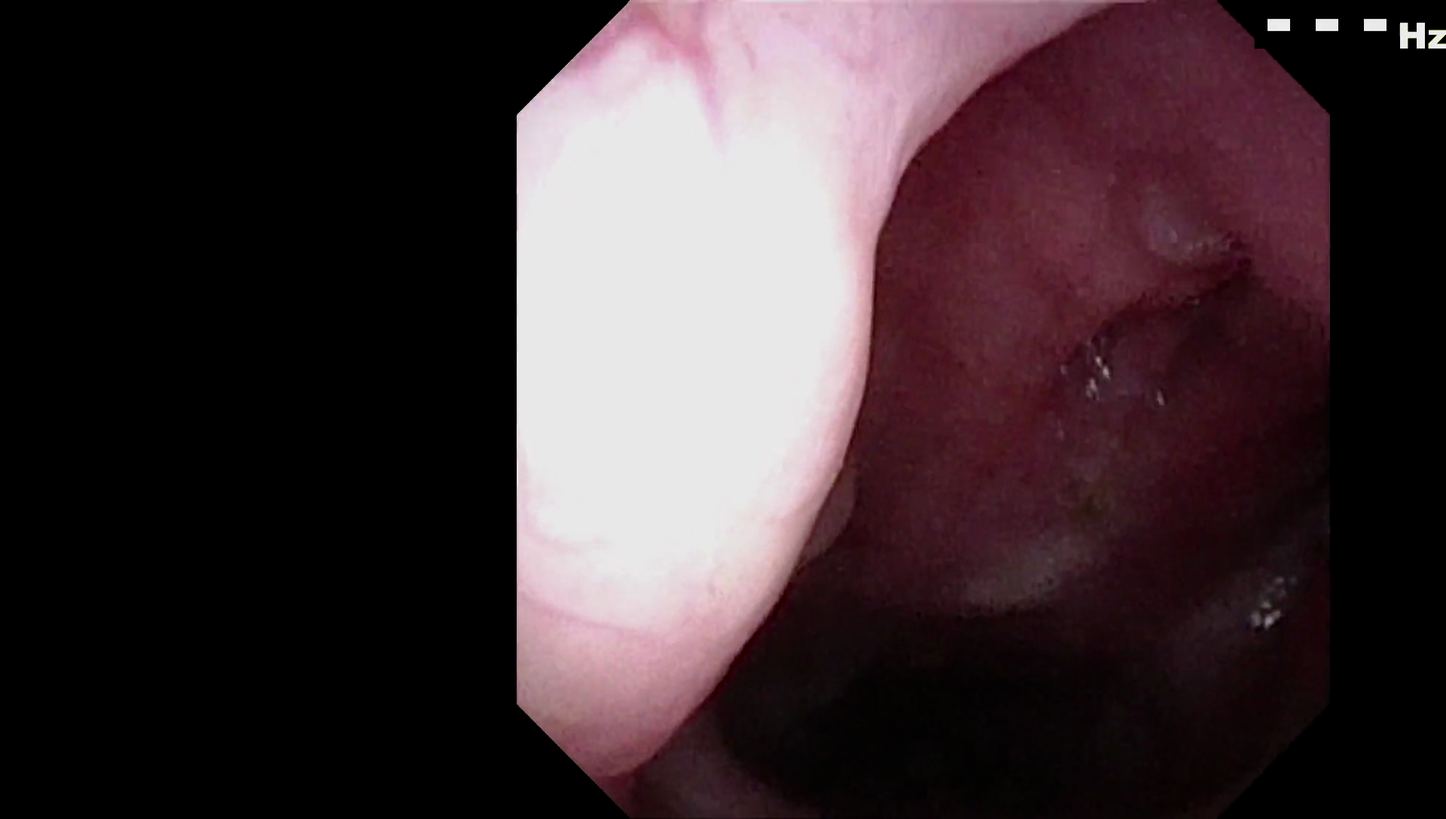close_wall: (524, 111, 903, 715)
next: (664, 525, 1227, 819)
